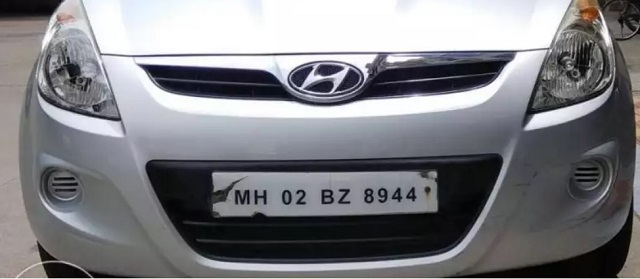licenseplate: (205, 168, 442, 217)
